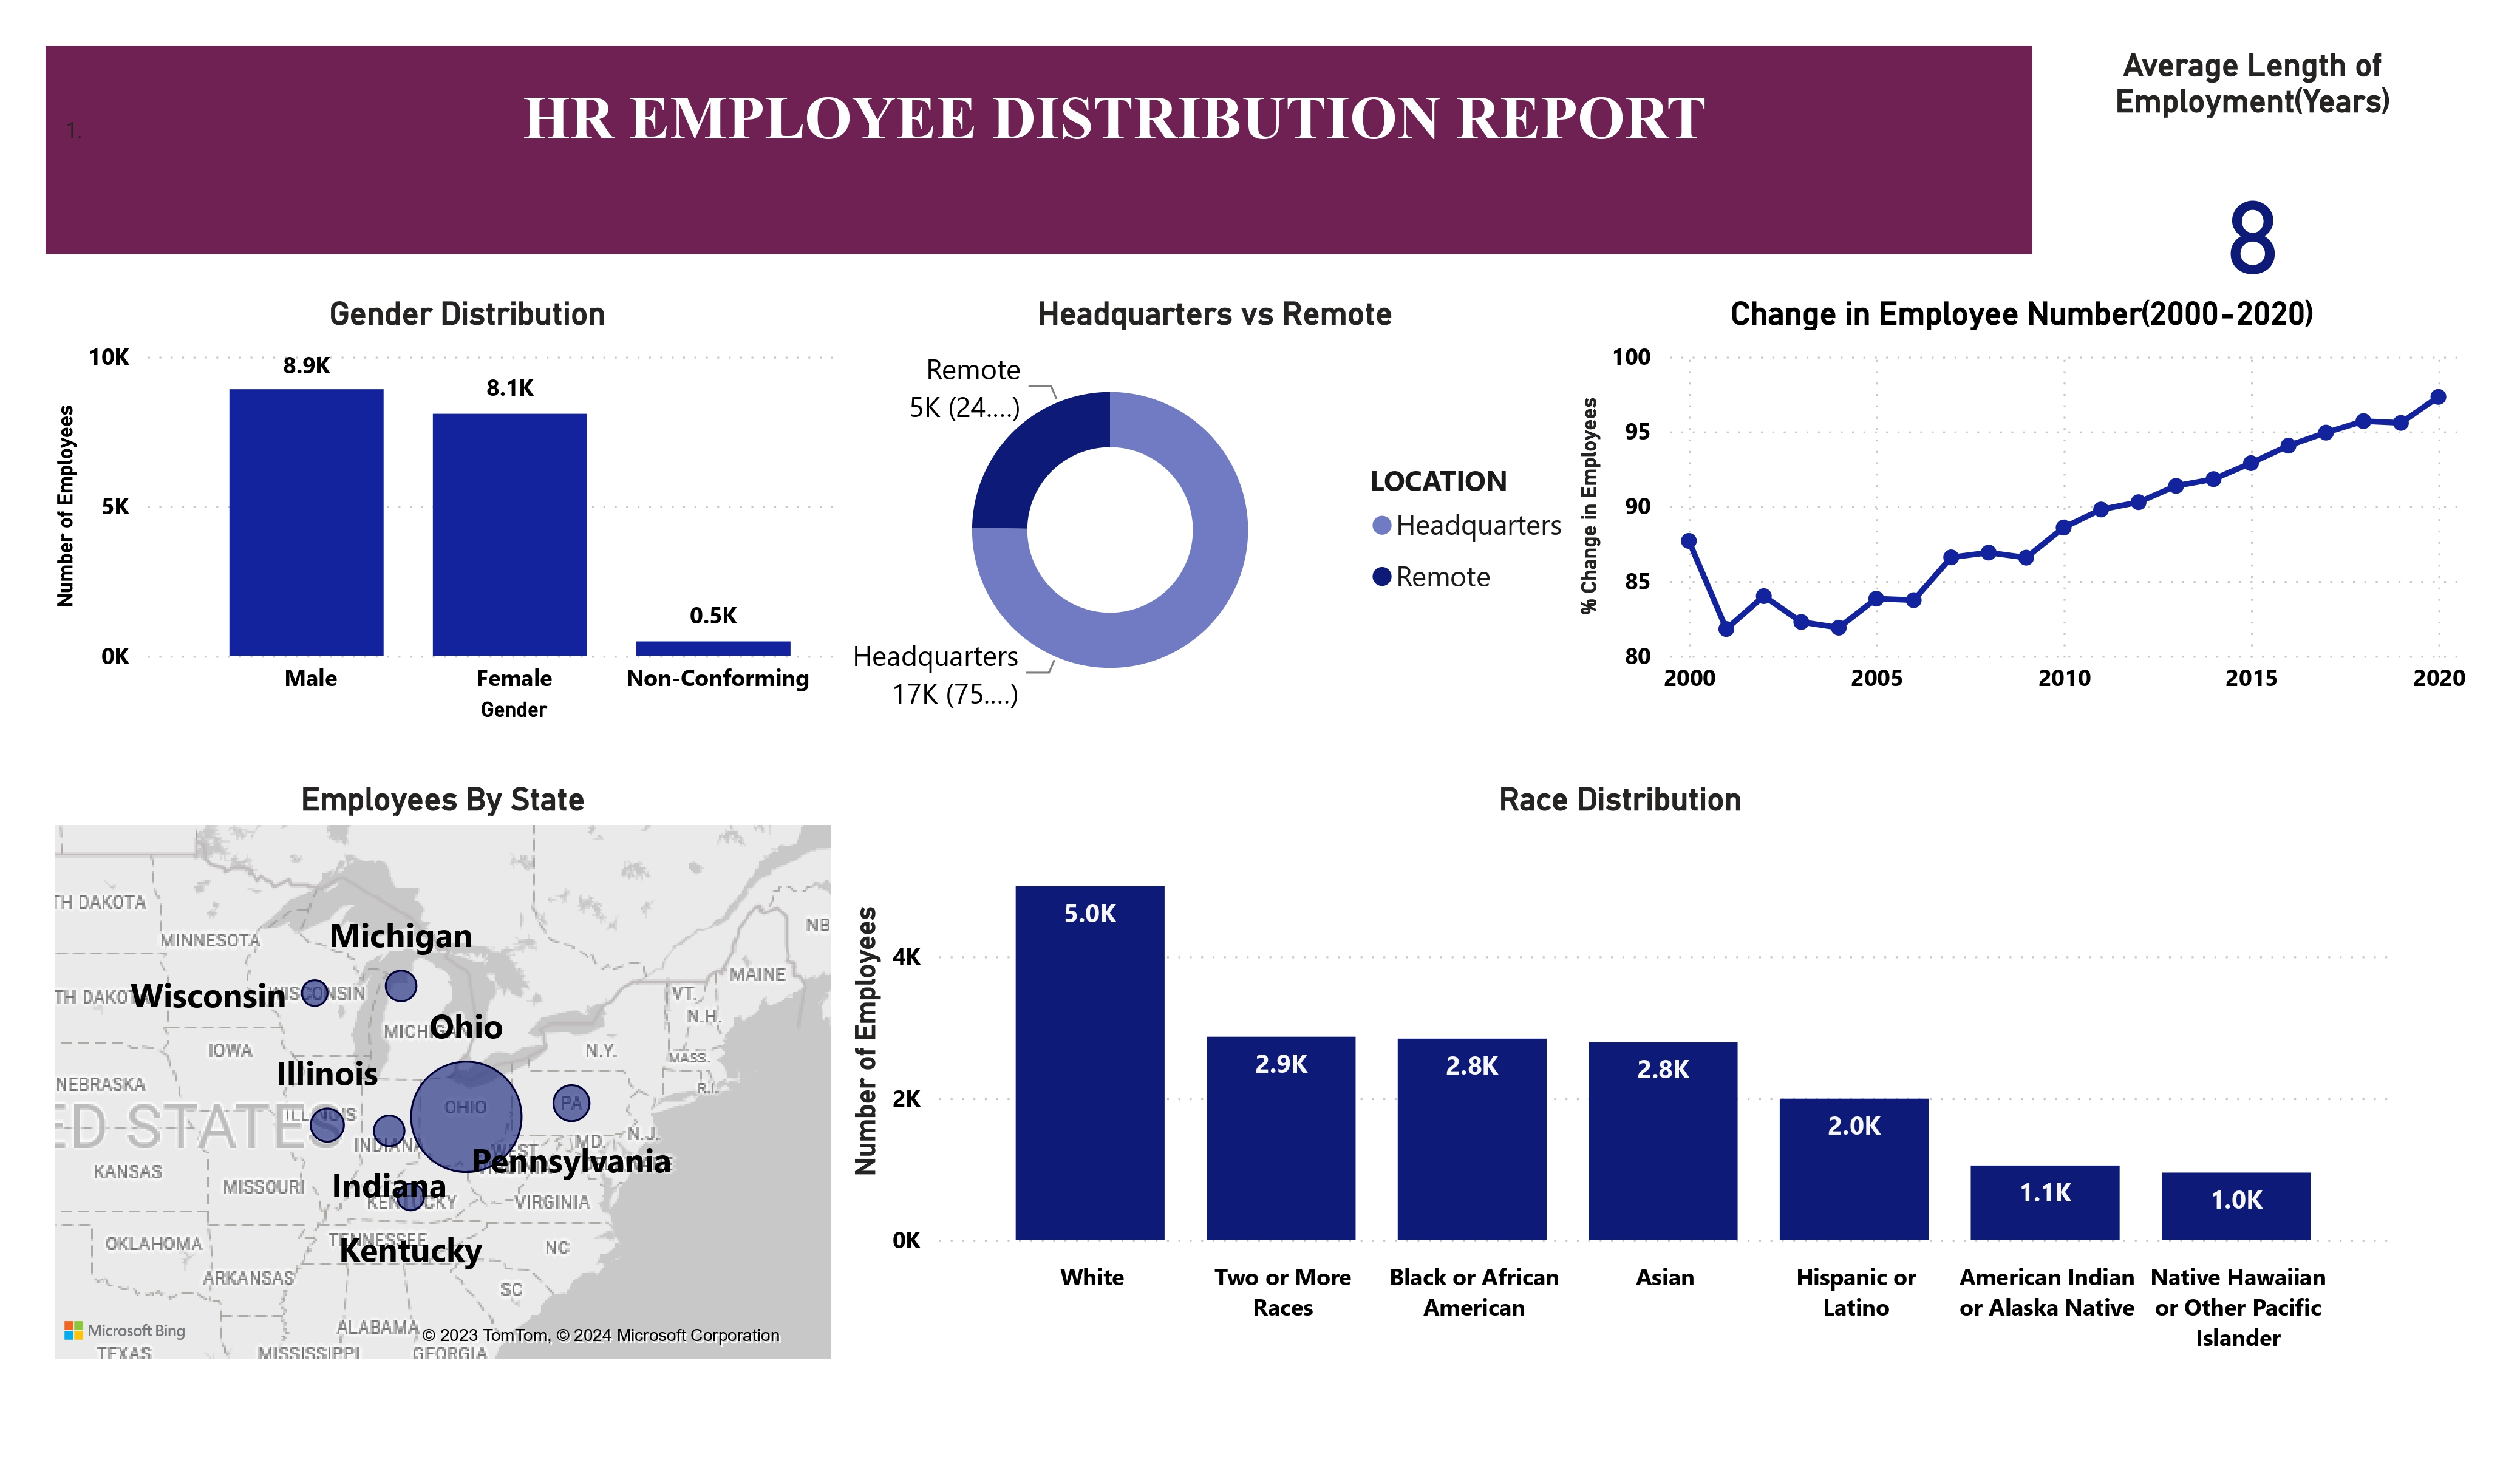

The page's visual inventory and layout, read from the dashboard file:
{"tool":"powerbi","page":{"name":"Page 1","canvas":[1280,720],"ordinal":0},"visuals":[{"type":"textbox","box":[0,0,1090.5,110],"z":0},{"type":"card","title":"Average Length of Employment(Years)","fields":{"Values":["Sum(AVG_LENGTH_EMPLOYMENT.AVG_LENGTH_EMPLOYMENT)"]},"box":[1046.9,0,232.4,149.3],"z":1000},{"type":"columnChart","title":"Gender Distribution","fields":{"Category":["GENDER.GENDER"],"Y":["Sum(GENDER.COUNT)"]},"box":[0,131.1,444.9,229.8],"z":2000},{"type":"donutChart","title":"Headquarters vs Remote","fields":{"Y":["Sum(location.COUNT)"],"Category":["location.LOCATION"]},"box":[419.1,131.1,394.8,229.8],"z":3000},{"type":"lineChart","title":"Change in Employee Number(2000-2020)","fields":{"Category":["EMPLOYEE_CHANGE.YEAR"],"Y":["Sum(EMPLOYEE_CHANGE.NET_CHANGE_PERCENT)"]},"box":[802.5,131.1,477.3,229.8],"z":3001},{"type":"map","title":"Employees By State","fields":{"Size":["Sum(STATE.COUNT)"],"Category":["STATE.LOCATION_STATE"]},"box":[0,386.7,419.1,310.7],"z":3002},{"type":"clusteredColumnChart","title":"Race Distribution","fields":{"Category":["RACE.RACE"],"Y":["Sum(RACE.COUNT)"]},"box":[419.1,386.7,821.9,310.7],"z":3003}]}

Visuals, with their boxes on the page's 1280x720 design canvas (x1, y1, x2, y2). These are canvas units, not pixel positions in the 2520x1457 screenshot, which may show the page scaled, cropped or inside an application window:
textbox: bbox(0, 0, 1090, 110)
"Average Length of Employment(Years)" card: bbox(1047, 0, 1279, 149)
"Gender Distribution" columnChart: bbox(0, 131, 445, 361)
"Headquarters vs Remote" donutChart: bbox(419, 131, 814, 361)
"Change in Employee Number(2000-2020)" lineChart: bbox(802, 131, 1280, 361)
"Employees By State" map: bbox(0, 387, 419, 697)
"Race Distribution" clusteredColumnChart: bbox(419, 387, 1241, 697)
